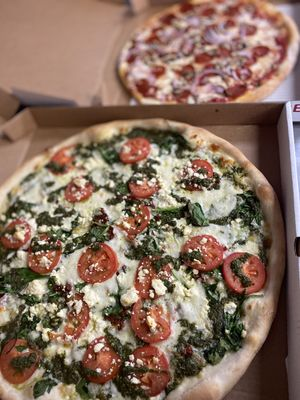curry: (1, 0, 299, 382)
sandwich: (0, 121, 283, 400), (117, 0, 299, 103)
